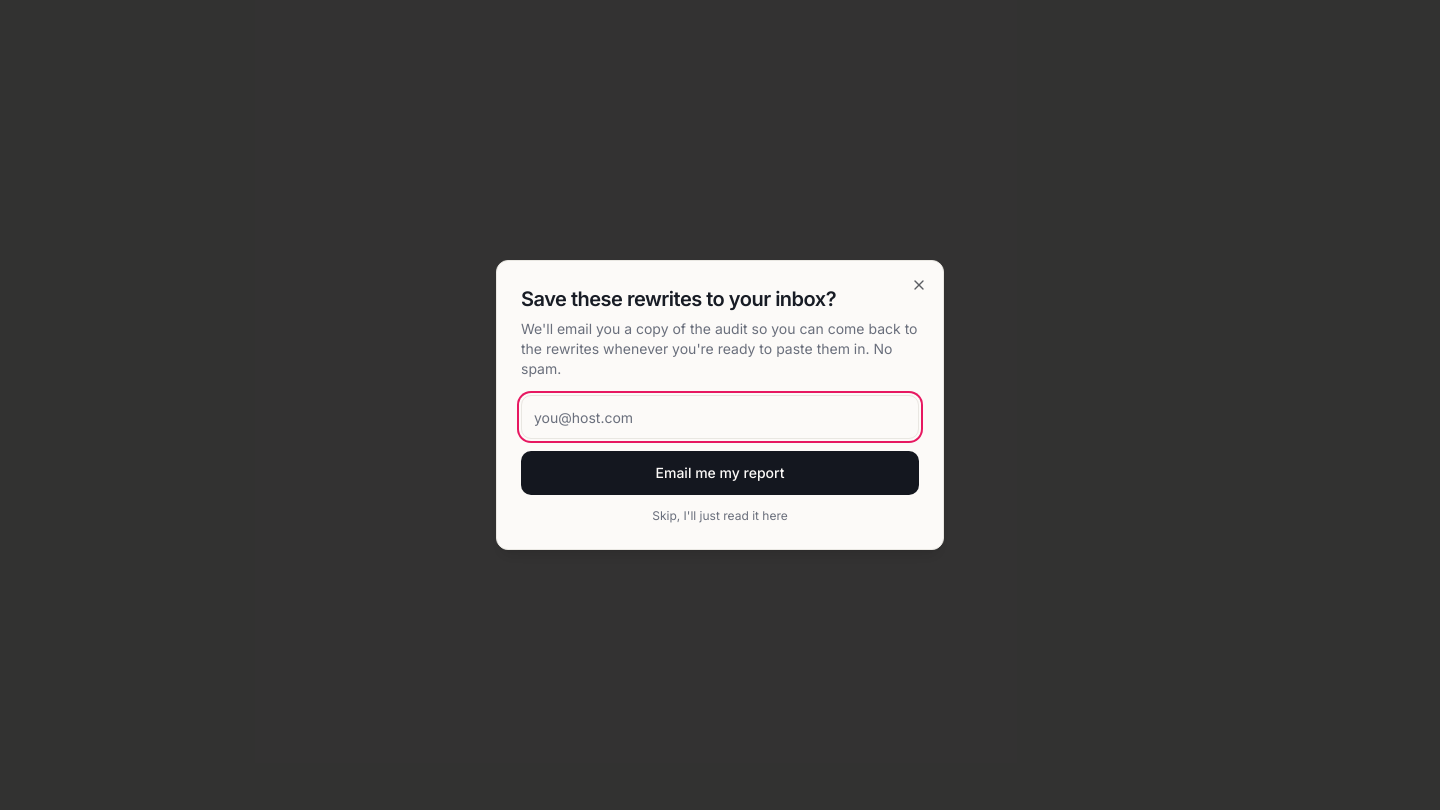
Test case: EmailGateModal › clears the validation error as soon as the user edits the field
Submit the form "Email me my report Skip, I'll just read it here", box x1=521 y1=395 x2=919 y2=525
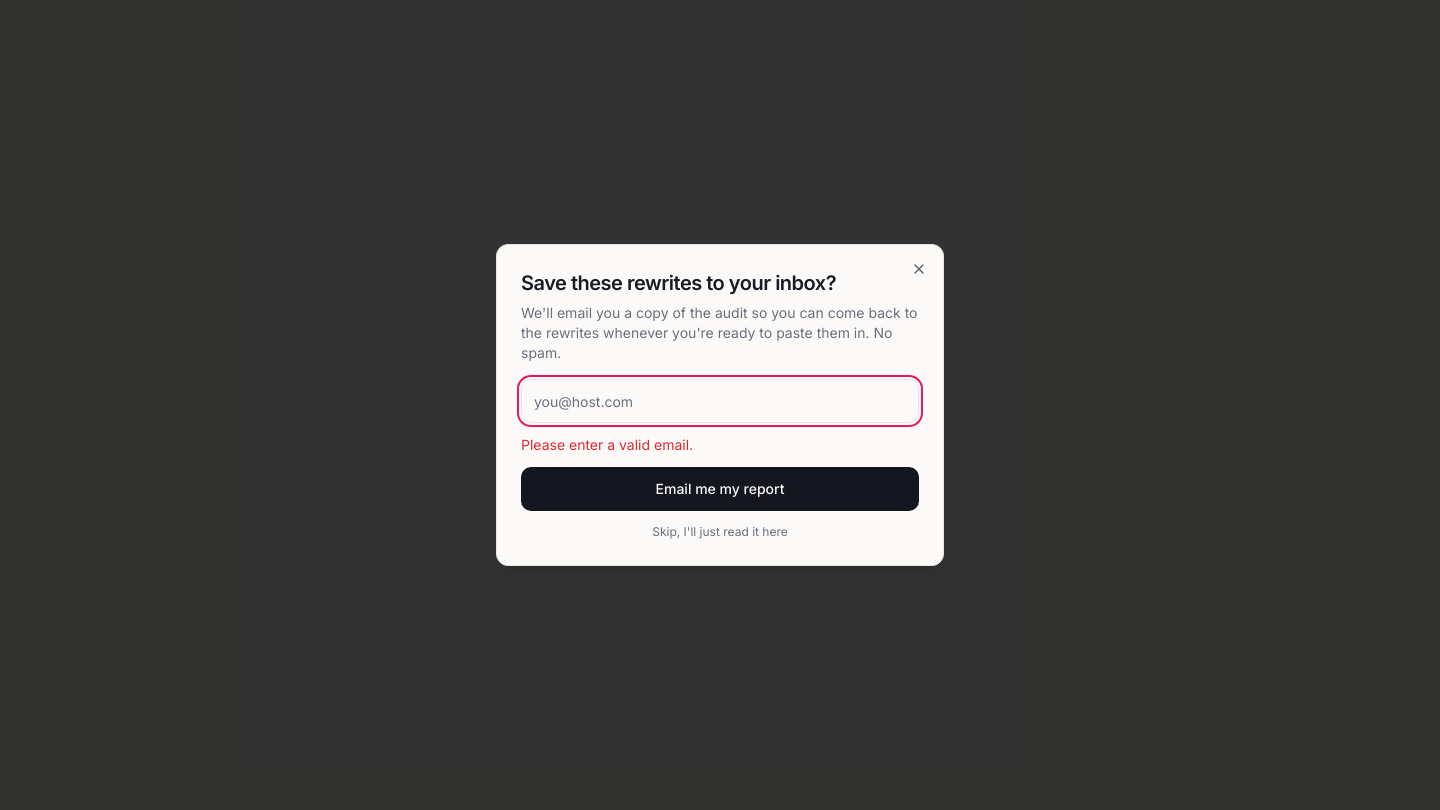
Result: the text "Please enter a valid email." is shown at x1=521 y1=436 x2=693 y2=453
Type "h" into the field with placeholder "you@host.com" at coordinates (720, 401), box x1=521 y1=379 x2=919 y2=423
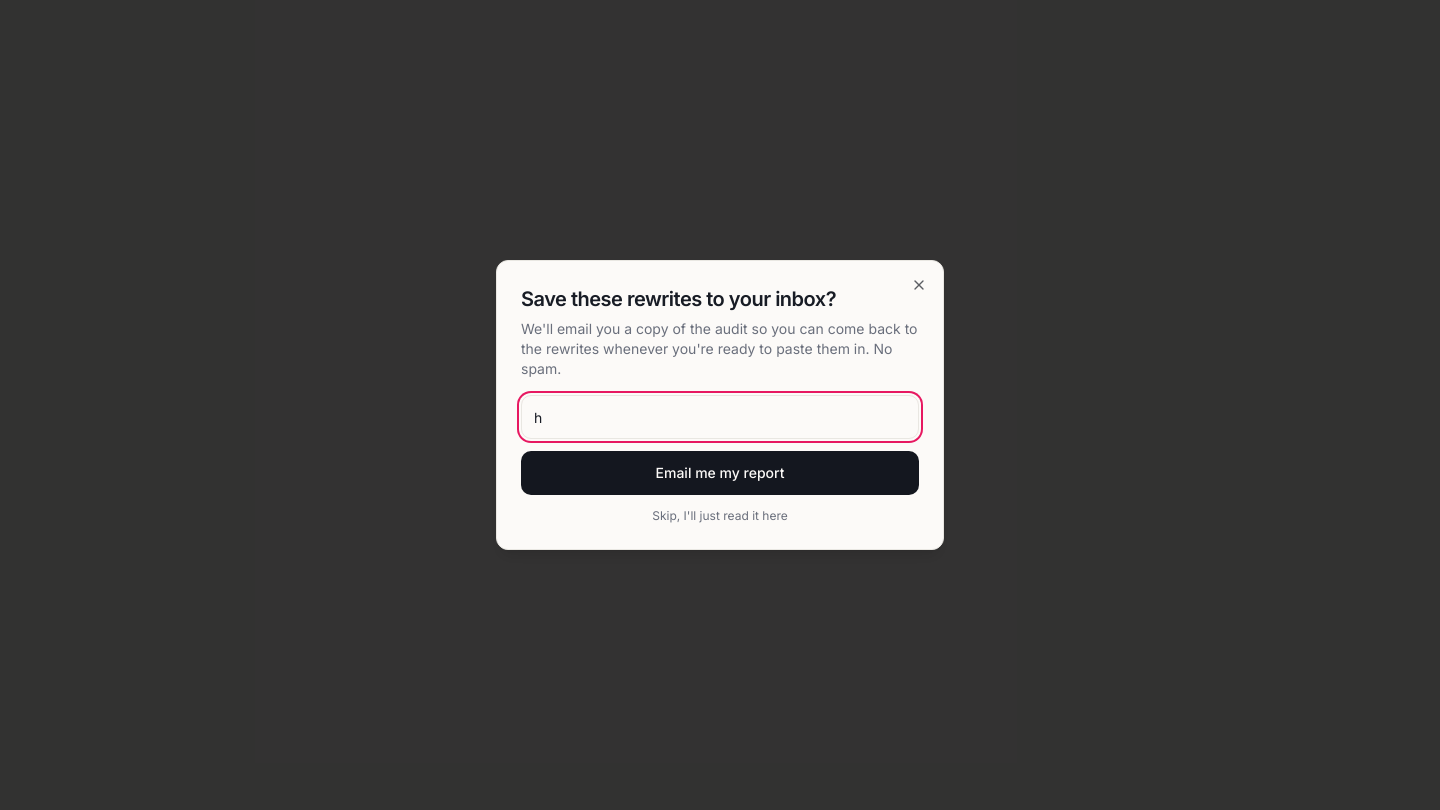
Result: the text "valid email" is gone
